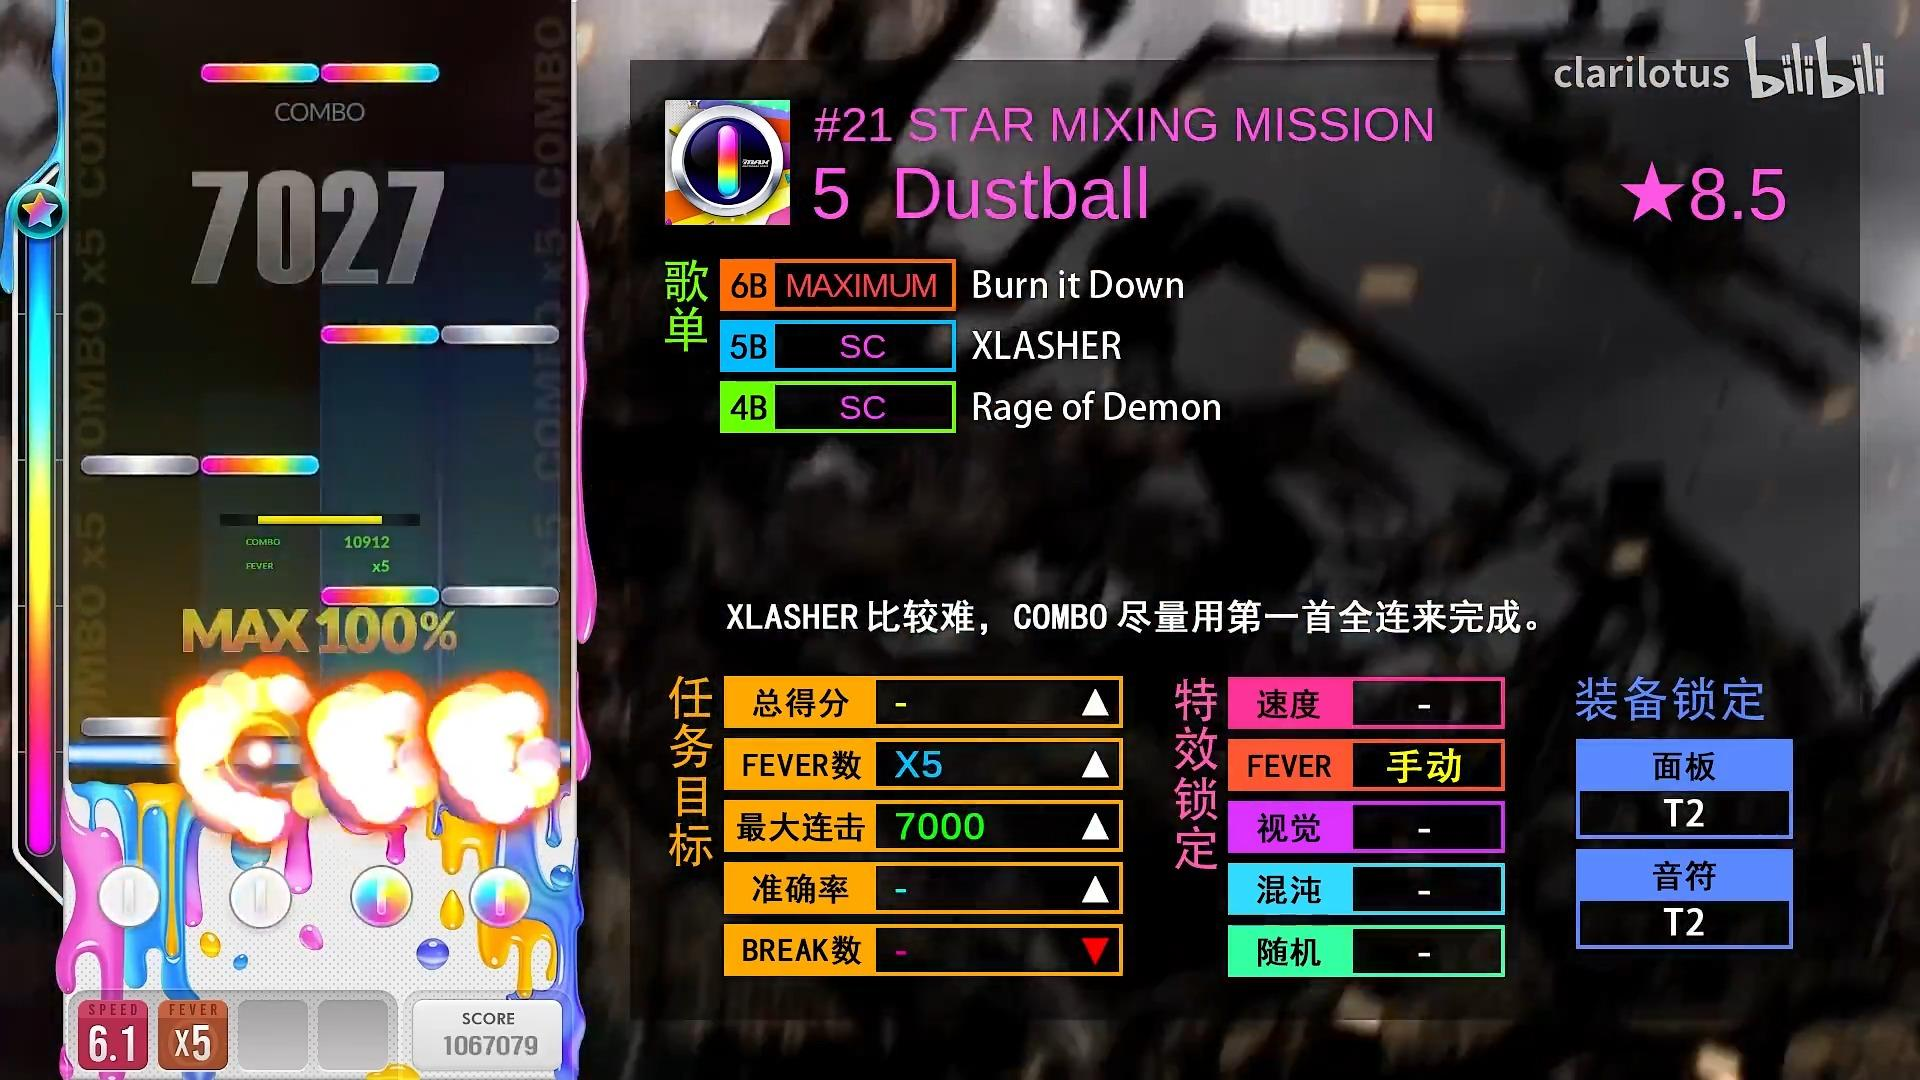note: (200, 454, 320, 476), (80, 454, 199, 476), (440, 584, 559, 607), (320, 324, 440, 345), (80, 716, 200, 737), (199, 716, 319, 737), (320, 62, 439, 83), (322, 585, 440, 607), (202, 62, 319, 83), (439, 324, 559, 344)
